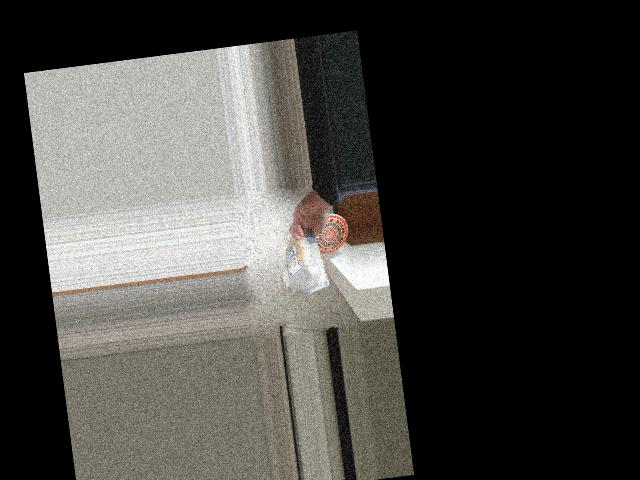cheese: (282, 229, 327, 298)
